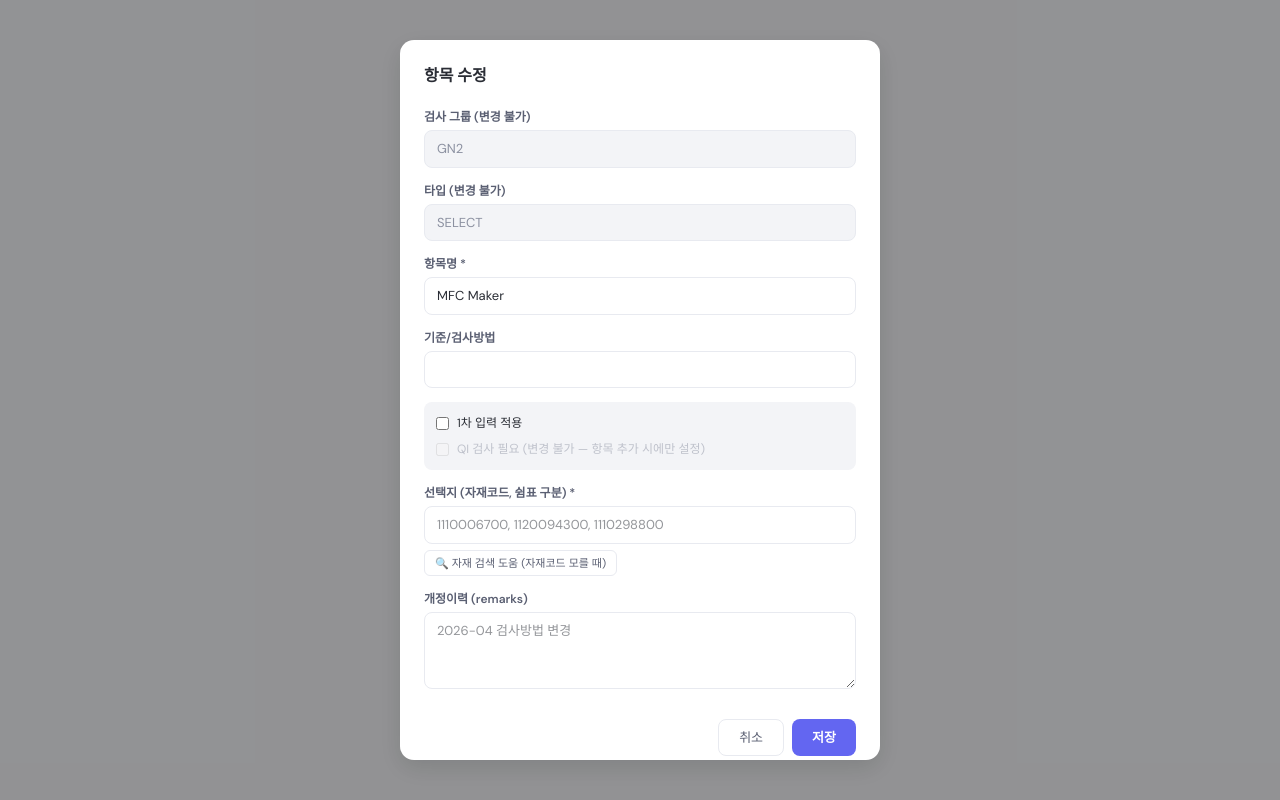
Test: ChecklistEditModal — 방향 A 자재코드 input 영역 (HOTFIX-SPRINT42 v1.43.1) › 미등록 자재코드 → 빨간색 marker (✗ 표시)
Type "1110006700, 9999999999" into the field with placeholder "1110006700, 1120094300, 1110298800" at (640, 525), box top-left (424, 506), bottom-right (856, 544)
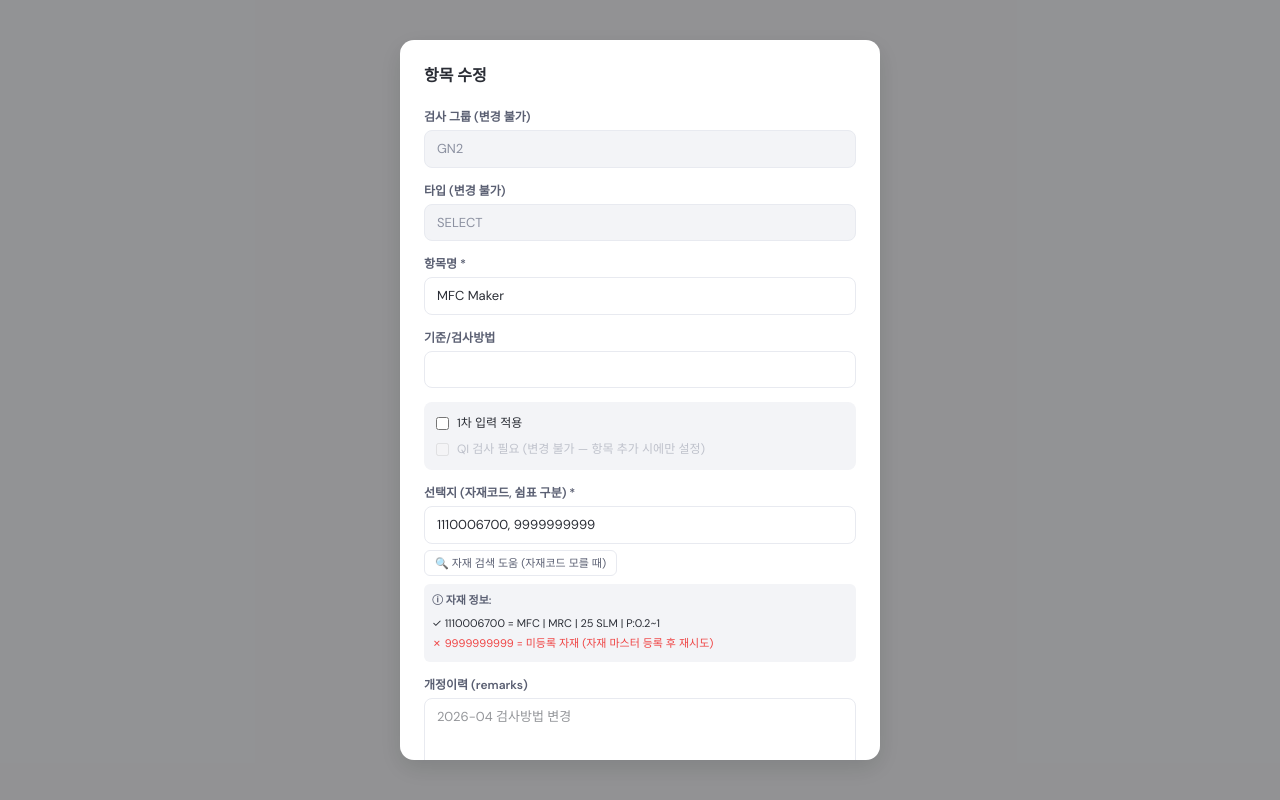
Result: the text "✗ 9999999999 = 미등록 자재 (자재 마스터 등록 후 재시도)" is shown at top-left (432, 636), bottom-right (713, 650)
